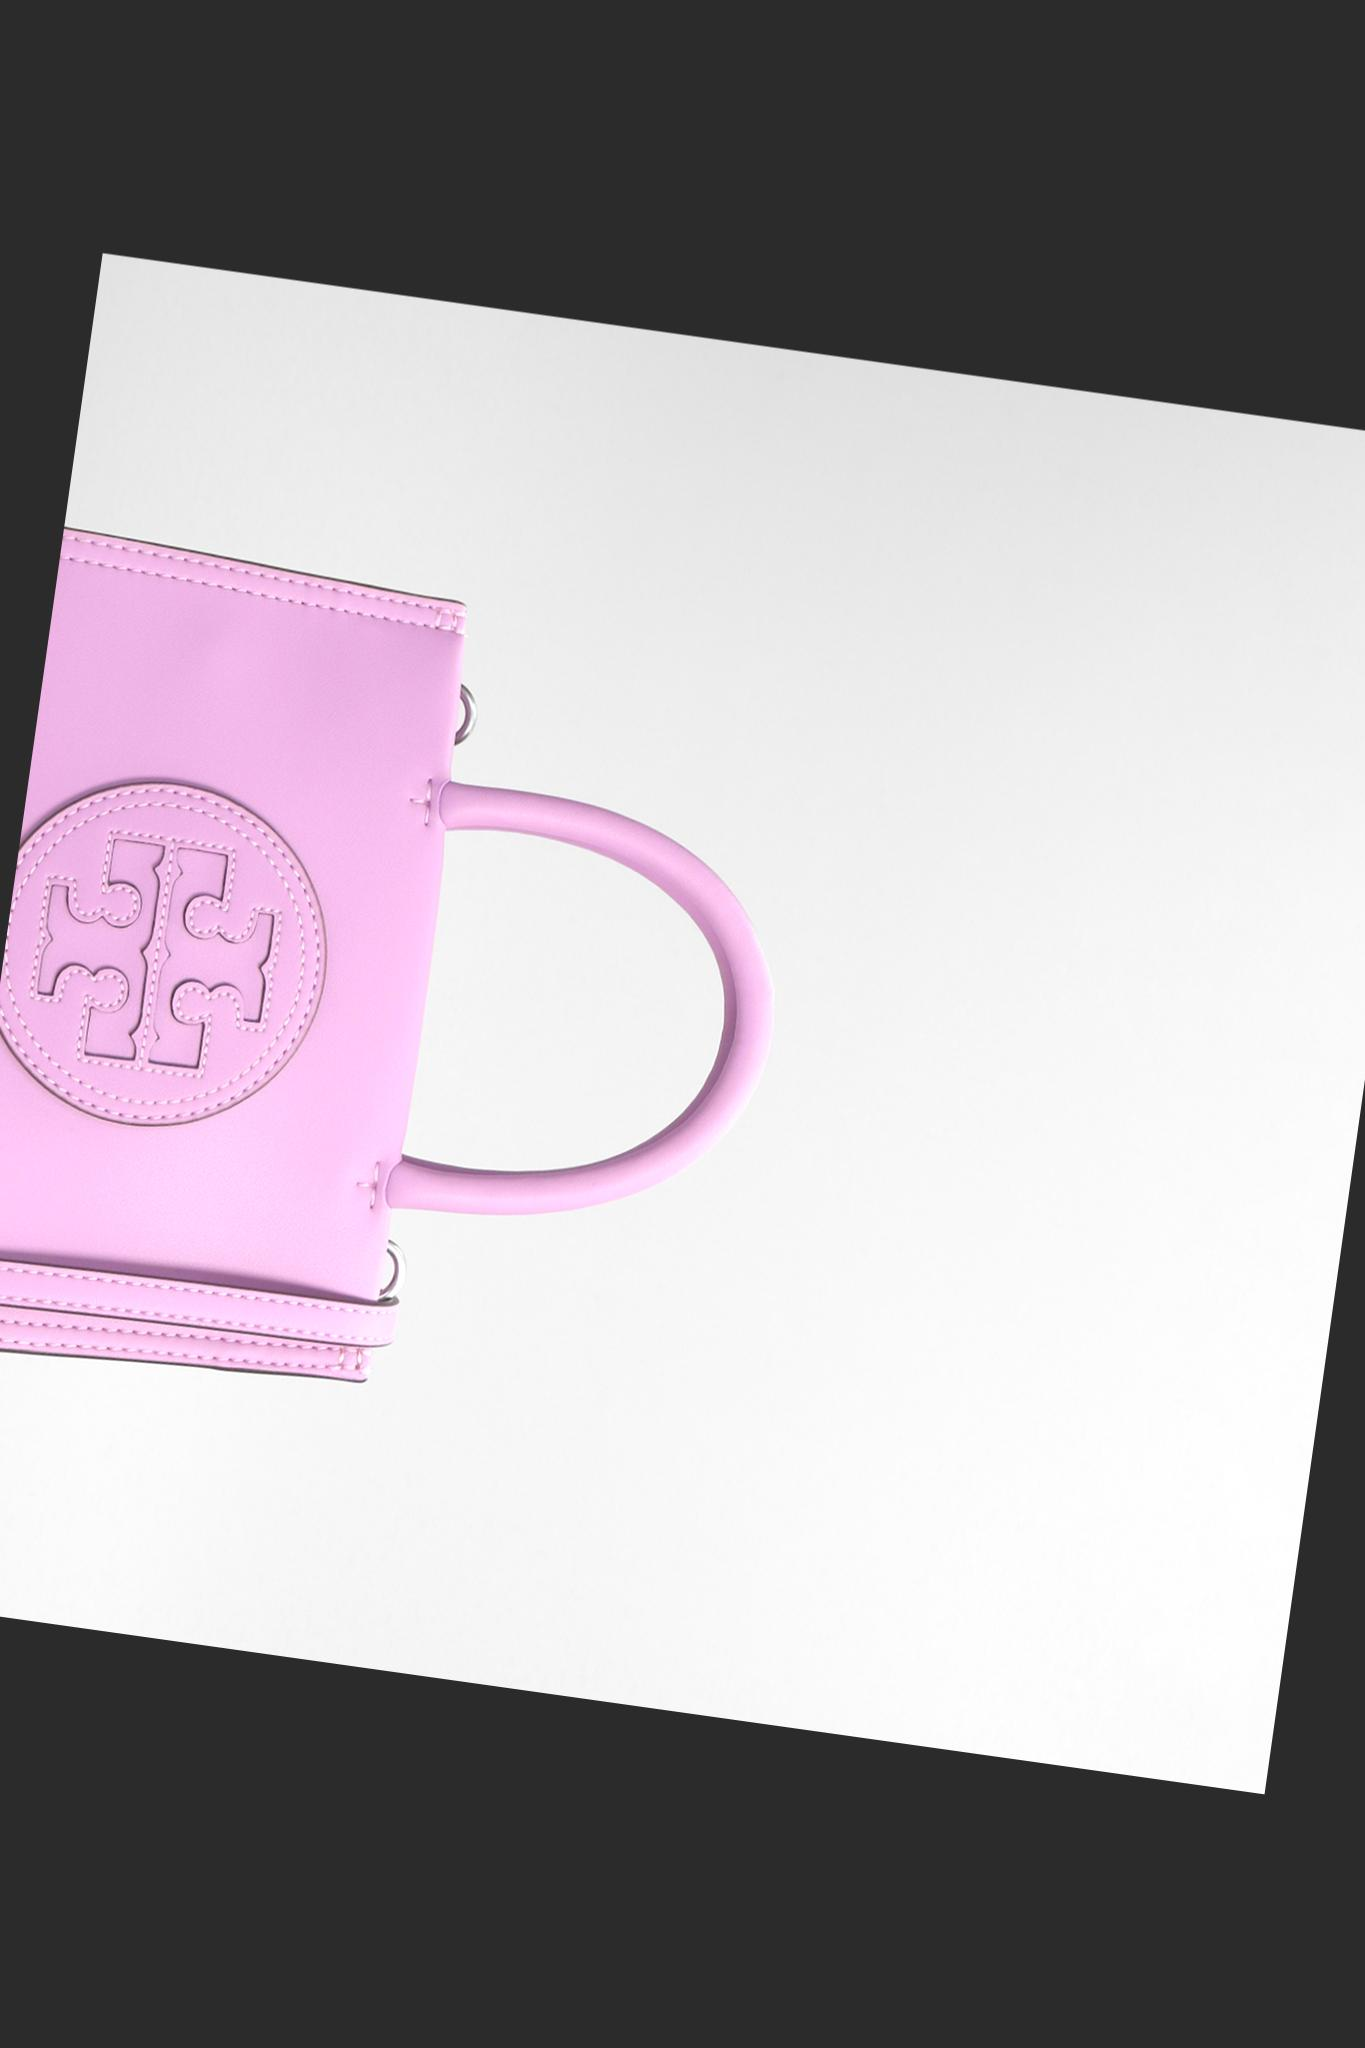TORY-BURCH: (0, 761, 347, 1150)
